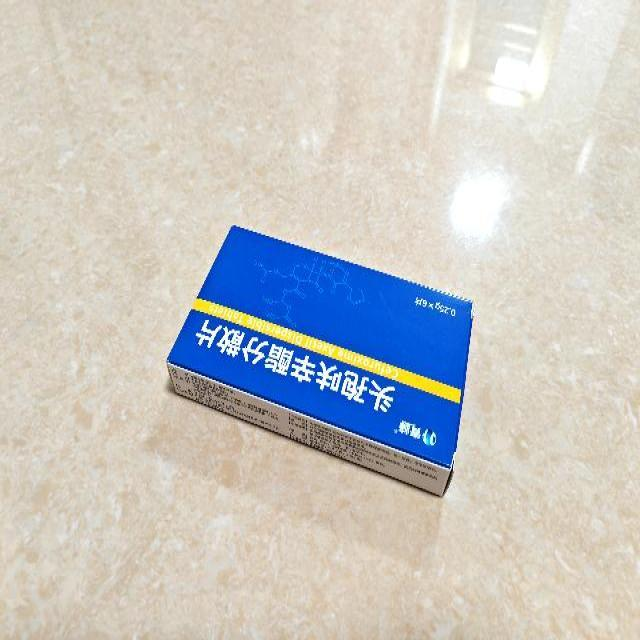box: (166, 223, 474, 500)
